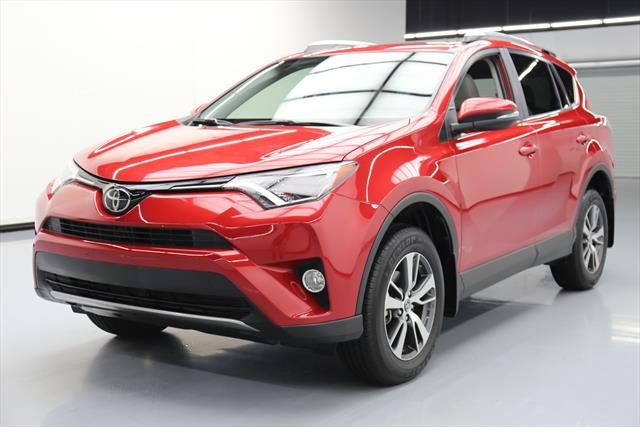Toyota RAV-4: (27, 25, 620, 392)
